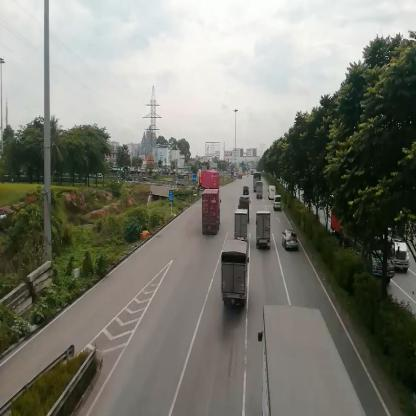car: (283, 232, 299, 250), (276, 196, 282, 212), (270, 188, 276, 201), (244, 186, 251, 196)
container: (198, 172, 220, 190)
truck: (220, 245, 248, 311), (204, 191, 221, 236), (257, 213, 271, 251), (237, 208, 248, 238), (257, 183, 264, 199)
